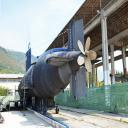submarine: (19, 19, 96, 107)
